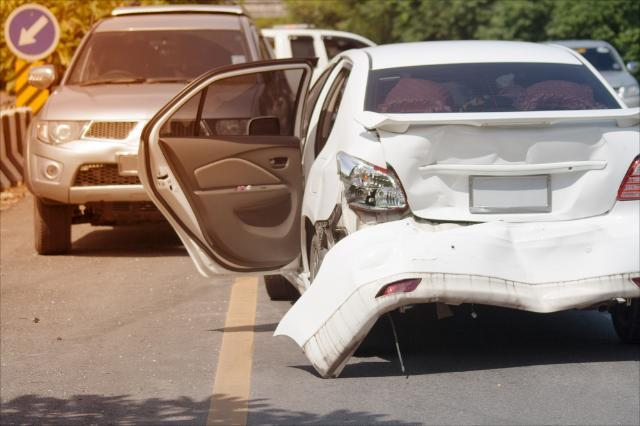dent: (407, 128, 613, 224), (488, 217, 603, 311)
dislocated part: (273, 201, 640, 380)
lamp broken: (335, 154, 404, 218)
